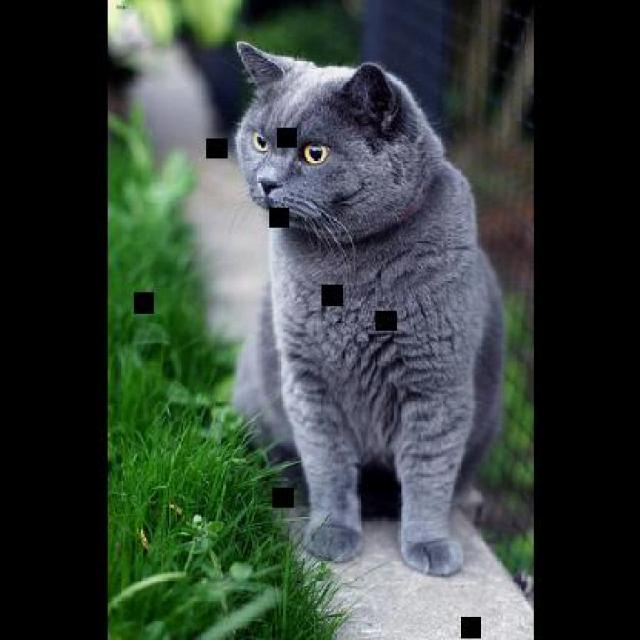unauthorized: (226, 38, 508, 577)
